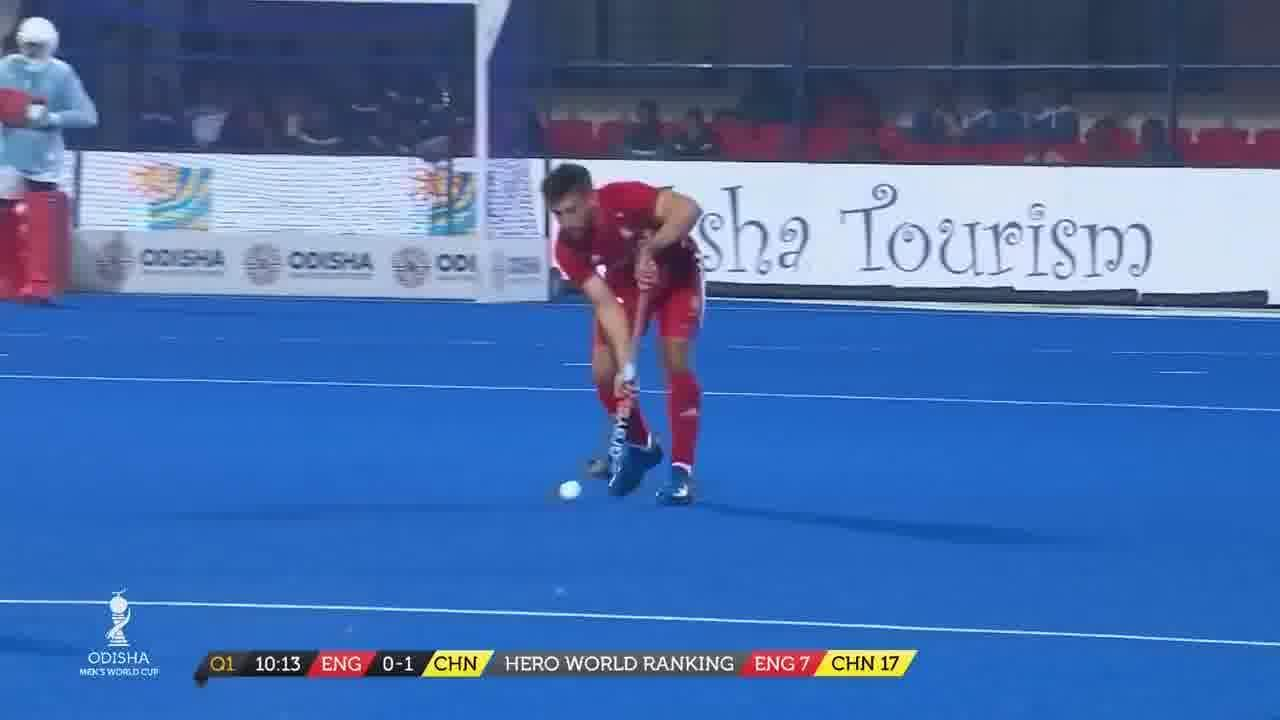ball: (552, 472, 590, 508)
